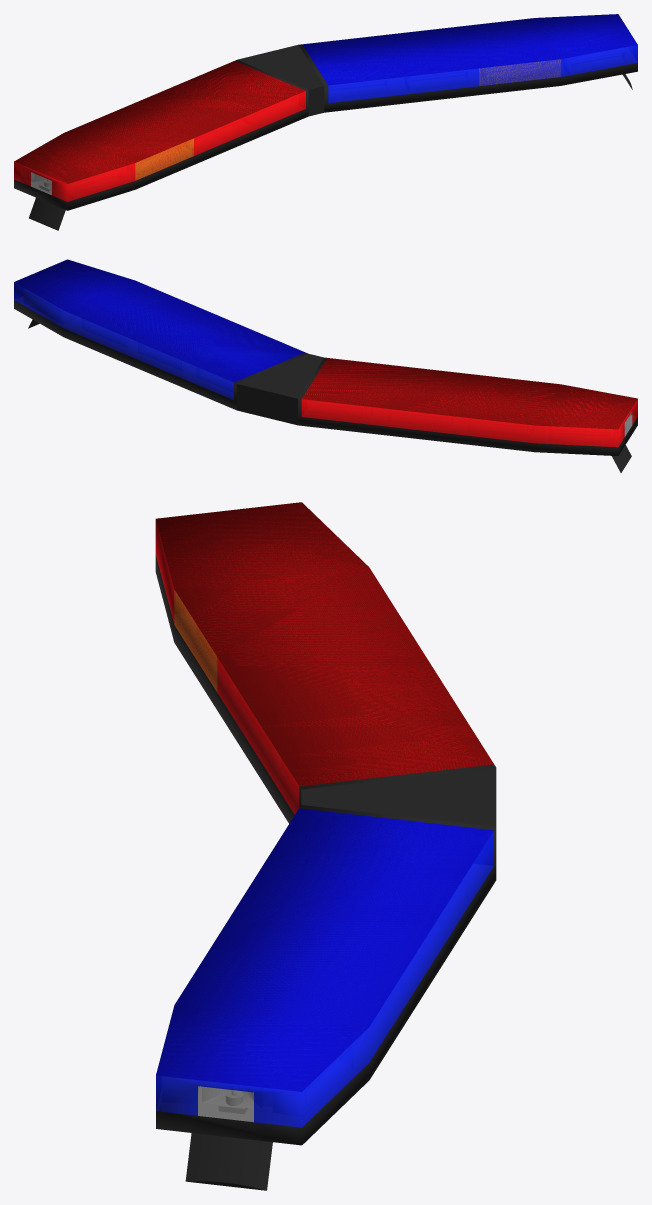
File: LightBar.obj
The picture shows the model from 3 angles, top to bottom: view 1: azimuth 30°, elevation 25°; view 2: azimuth 150°, elevation 25°; view 3: azimuth 270°, elevation 25°; orthographic projection. The views are drawn at different scales.
Visible parts, largest first — view 1: Material2; view 2: Material2; view 3: Material2.
Boxes of the visible parts, x1=… form: Material2: x1=14, y1=14, x2=637, y2=230; Material2: x1=14, y1=259, x2=637, y2=472; Material2: x1=155, y1=502, x2=496, y2=1190.
Bounding box in the file's own units: 1.2 × 0.0985 × 0.2928.
